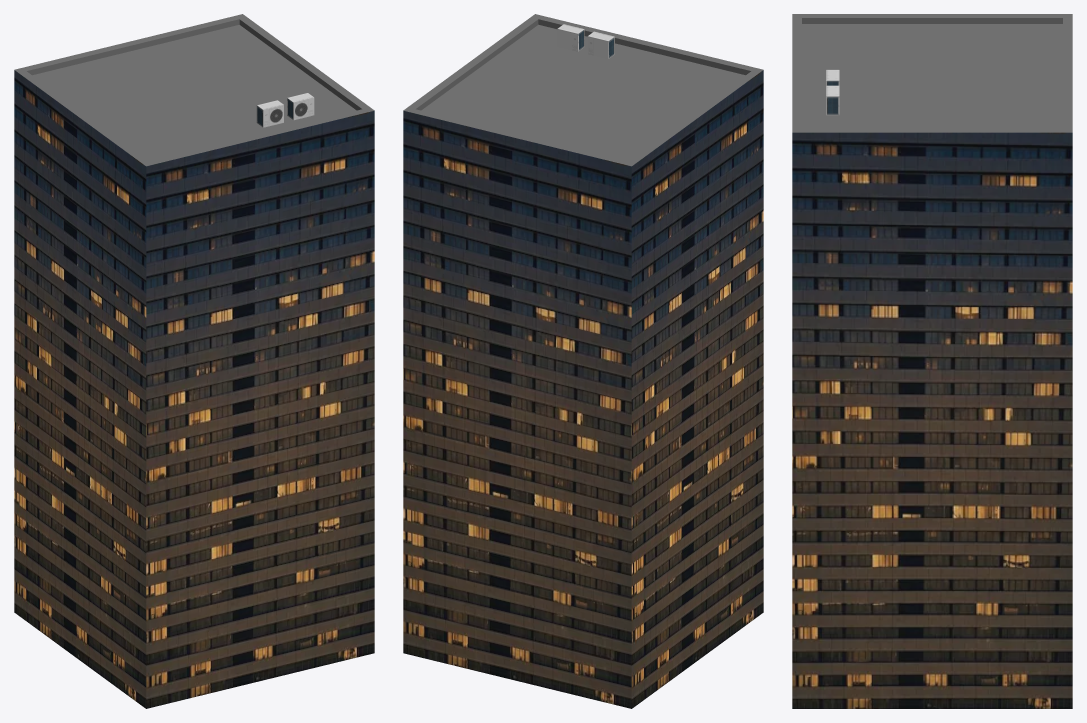
The model's file is modern_night_building_game-ready.glb.
The picture shows the model from 3 angles, left to right: view 1: azimuth 30°, elevation 25°; view 2: azimuth 150°, elevation 25°; view 3: azimuth 270°, elevation 25°; orthographic projection. The views are drawn at different scales.
Parts seen in each view (by area): view 1: Building; view 2: Building; view 3: Building.
Part boxes in pixels (x1,y1,x2,y2): Building: [14, 14, 374, 708]; Building: [403, 14, 763, 708]; Building: [792, 14, 1072, 708].
Bounding box in the file's own units: 37.45 × 86.87 × 37.45.
3 materials, 2 textured.
